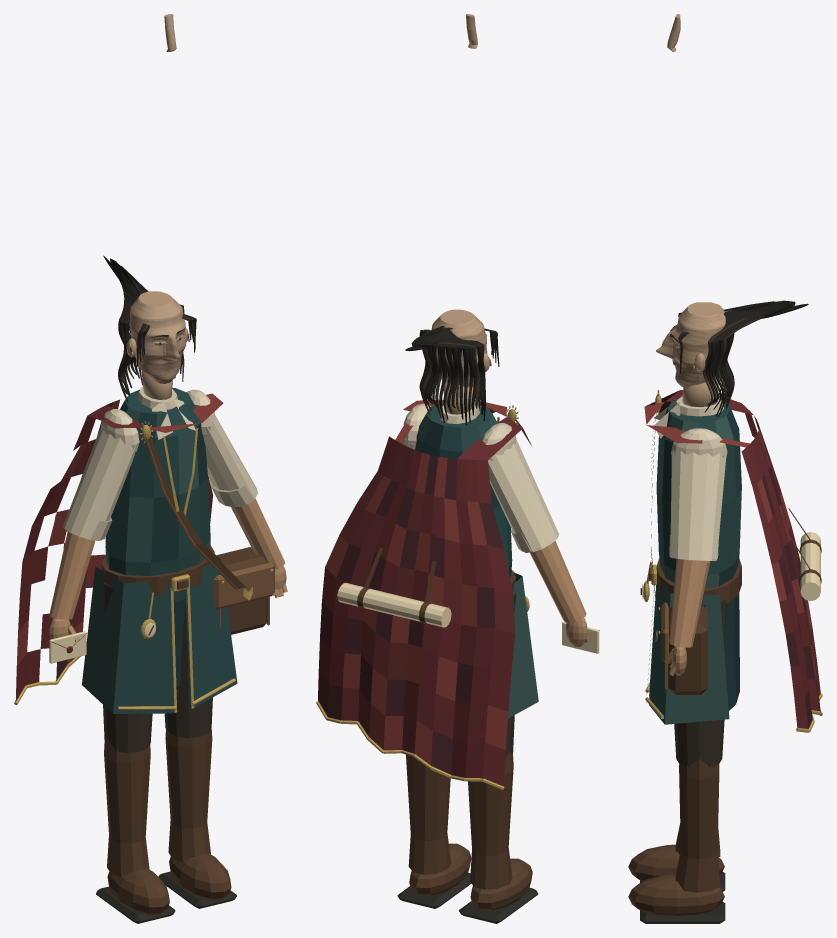
The model's file is courier.glb.
3 views of the same model, side by side, from view 1: azimuth 30°, elevation 25°; view 2: azimuth 150°, elevation 25°; view 3: azimuth 270°, elevation 25° (orthographic).
Visible parts, largest first — view 1: Waistcoat, Split_coat_R, Cloak_folds, Boot_shaft_R, Boot_shaft_L, Split_coat_L, Linen_sleeve_R, Face, Forearm_R, Trouser_thigh_L, Linen_sleeve_L, Boot_toe_L (+13 smaller); view 2: Cloak_folds, Boot_shaft_R, Boot_shaft_L, Linen_sleeve_R, Waistcoat, Split_coat_R, Map_roll, Forearm_R, Boot_toe_L, Boot_toe_R, Face, Boot_sole_R (+2 smaller); view 3: Cloak_folds, Waistcoat, Linen_sleeve_L, Boot_shaft_L, Split_coat_L, Face, Boot_toe_L, Forearm_L, Trouser_thigh_L, Messenger_satchel, Back_coat, Boot_toe_R (+8 smaller).
Part boxes in pixels (<box>): Waistcoat: <box>105,388,210,601</box>; Split_coat_R: <box>82,566,174,713</box>; Cloak_folds: <box>15,393,223,701</box>; Boot_shaft_R: <box>104,738,150,877</box>; Boot_shaft_L: <box>165,726,212,862</box>; Split_coat_L: <box>185,554,237,709</box>; Linen_sleeve_R: <box>63,426,137,540</box>; Face: <box>129,291,186,383</box>; Forearm_R: <box>49,531,95,619</box>; Trouser_thigh_L: <box>164,599,212,738</box>; Linen_sleeve_L: <box>203,415,257,506</box>; Boot_toe_L: <box>169,853,231,900</box>; Cloak_folds: <box>318,399,531,786</box>; Boot_shaft_R: <box>468,751,513,889</box>; Boot_shaft_L: <box>406,754,451,874</box>; Linen_sleeve_R: <box>488,439,559,552</box>; Waistcoat: <box>415,402,512,577</box>; Split_coat_R: <box>508,572,538,718</box>; Map_roll: <box>337,582,451,627</box>; Forearm_R: <box>530,540,586,622</box>; Boot_toe_L: <box>409,843,471,895</box>; Boot_toe_R: <box>470,858,532,910</box>; Face: <box>431,309,487,387</box>; Boot_sole_R: <box>459,887,538,923</box>; Cloak_folds: <box>644,390,820,729</box>; Waistcoat: <box>656,396,741,588</box>; Linen_sleeve_L: <box>670,450,726,560</box>; Boot_shaft_L: <box>675,759,720,892</box>; Split_coat_L: <box>649,572,729,724</box>; Face: <box>656,302,725,387</box>; Boot_toe_L: <box>628,874,724,915</box>; Forearm_L: <box>669,559,710,647</box>; Trouser_thigh_L: <box>674,599,727,767</box>; Messenger_satchel: <box>668,604,707,694</box>; Back_coat: <box>722,593,739,710</box>; Boot_toe_R: <box>628,844,724,881</box>.
Size of the model in its own units: 0.7395 by 2.59 by 0.5149.
